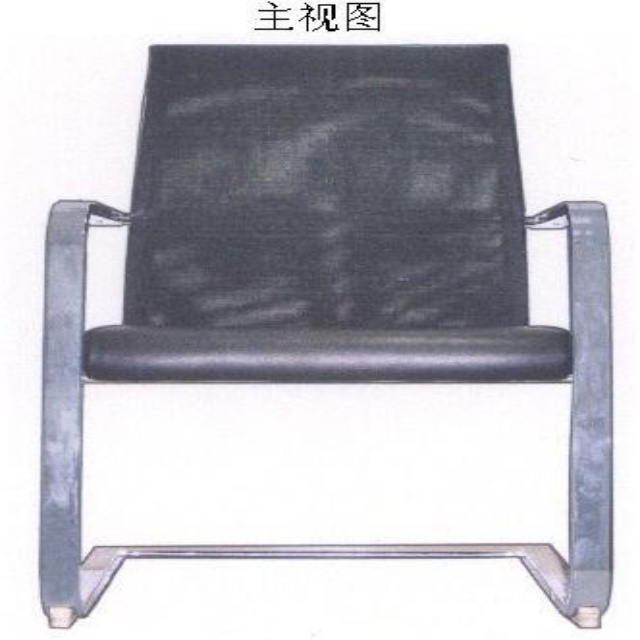obstacle: (40, 44, 611, 626)
